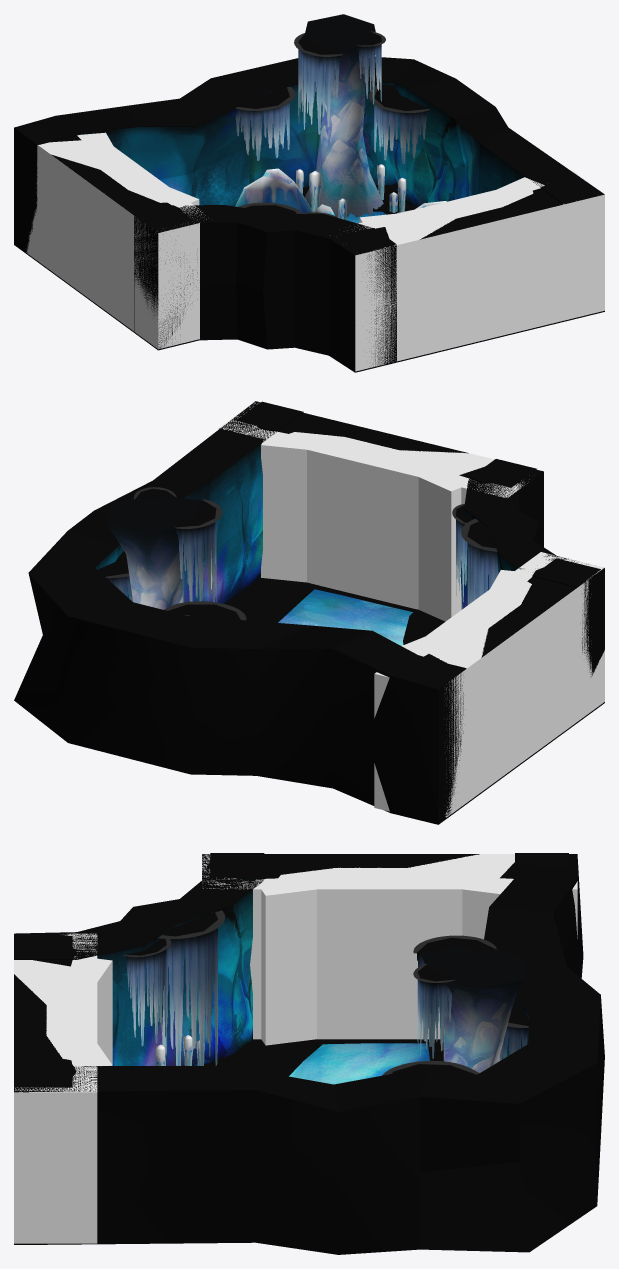
Rendered from Dungeon_072_RoadL_003.fbx.
The picture shows the model from 3 angles, top to bottom: view 1: azimuth 30°, elevation 25°; view 2: azimuth 150°, elevation 25°; view 3: azimuth 270°, elevation 25°; orthographic projection. The views are drawn at different scales.
Visible parts, largest first — view 1: Dun_072_Road_003_wall, DoorWay_NavMask (3) (×2), DoorWay_NavMask (1) (×2), Dun_072_OB_Icicle, Dun_072_OB_Pillar, Dun_072_Door_002 (×2), Dun_072_OB_Stone02, DoorWay_NavMask (4) (×2), Dun_072_OB_Ice_crystals01, DoorWay_NavMask (2), Dun_072_Road_003_shadow; view 2: Dun_072_Road_003_wall, DoorWay_NavMask (3) (×2), DoorWay_NavMask (1), Dun_072_Door_002 (×2), Dun_072_OB_Icicle, DoorWay_NavMask (2) (×2), DoorWay_NavMask (4), Dun_072_OB_Pillar, Dun_072_Road_003_ground, Dun_072_Road_003_shadow; view 3: Dun_072_Road_003_wall, DoorWay_NavMask (3) (×2), Dun_072_OB_Icicle, Dun_072_Door_002 (×2), DoorWay_NavMask (4) (×2), Dun_072_OB_Pillar, DoorWay_NavMask (2) (×2), Dun_072_Road_003_ground, DoorWay_NavMask (1) (×2), Dun_072_Road_003_shadow, Dun_072_OB_Ice_crystals01.
Boxes of the visible parts, x1=… form: Dun_072_Road_003_wall: x1=14, y1=57, x2=604, y2=372; DoorWay_NavMask (3) (×2): x1=26, y1=133, x2=604, y2=371; DoorWay_NavMask (1) (×2): x1=37, y1=134, x2=564, y2=360; Dun_072_OB_Icicle: x1=235, y1=31, x2=429, y2=217; Dun_072_OB_Pillar: x1=304, y1=14, x2=383, y2=217; Dun_072_Door_002 (×2): x1=17, y1=123, x2=598, y2=362; Dun_072_OB_Stone02: x1=235, y1=168, x2=446, y2=213; DoorWay_NavMask (4) (×2): x1=131, y1=177, x2=544, y2=207; Dun_072_OB_Ice_crystals01: x1=296, y1=164, x2=406, y2=219; DoorWay_NavMask (2): x1=359, y1=211, x2=429, y2=228; Dun_072_Road_003_shadow: x1=302, y1=185, x2=416, y2=214; Dun_072_Road_003_wall: x1=14, y1=401, x2=604, y2=824; DoorWay_NavMask (3) (×2): x1=218, y1=402, x2=604, y2=817; DoorWay_NavMask (1): x1=418, y1=587, x2=578, y2=803; Dun_072_Door_002 (×2): x1=236, y1=401, x2=600, y2=803; Dun_072_OB_Icicle: x1=98, y1=487, x2=498, y2=620; DoorWay_NavMask (2) (×2): x1=401, y1=458, x2=469, y2=653; DoorWay_NavMask (4): x1=261, y1=431, x2=340, y2=582; Dun_072_OB_Pillar: x1=106, y1=497, x2=201, y2=609; Dun_072_Road_003_ground: x1=278, y1=589, x2=412, y2=645; Dun_072_Road_003_shadow: x1=224, y1=577, x2=444, y2=644; Dun_072_Road_003_wall: x1=14, y1=854, x2=604, y2=1254; DoorWay_NavMask (3) (×2): x1=14, y1=854, x2=577, y2=1243; Dun_072_OB_Icicle: x1=123, y1=910, x2=528, y2=1079; Dun_072_Door_002 (×2): x1=14, y1=853, x2=568, y2=1087; DoorWay_NavMask (4) (×2): x1=52, y1=869, x2=345, y2=1069; Dun_072_OB_Pillar: x1=420, y1=945, x2=526, y2=1072; DoorWay_NavMask (2) (×2): x1=60, y1=869, x2=513, y2=1064; Dun_072_Road_003_ground: x1=289, y1=1043, x2=429, y2=1084; DoorWay_NavMask (1) (×2): x1=14, y1=854, x2=514, y2=1066; Dun_072_Road_003_shadow: x1=204, y1=1039, x2=443, y2=1076; Dun_072_OB_Ice_crystals01: x1=155, y1=1035, x2=204, y2=1065.
Size of what is drawn, in the model's own units: 7.21 by 3.02 by 7.08.
